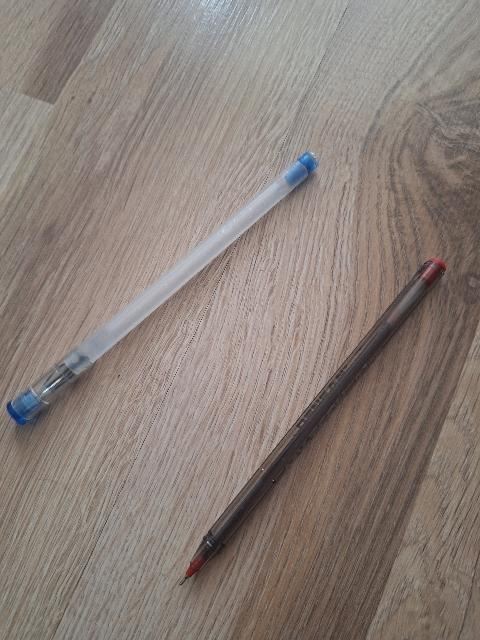writing_tool: (177, 256, 451, 588), (5, 147, 318, 425)
